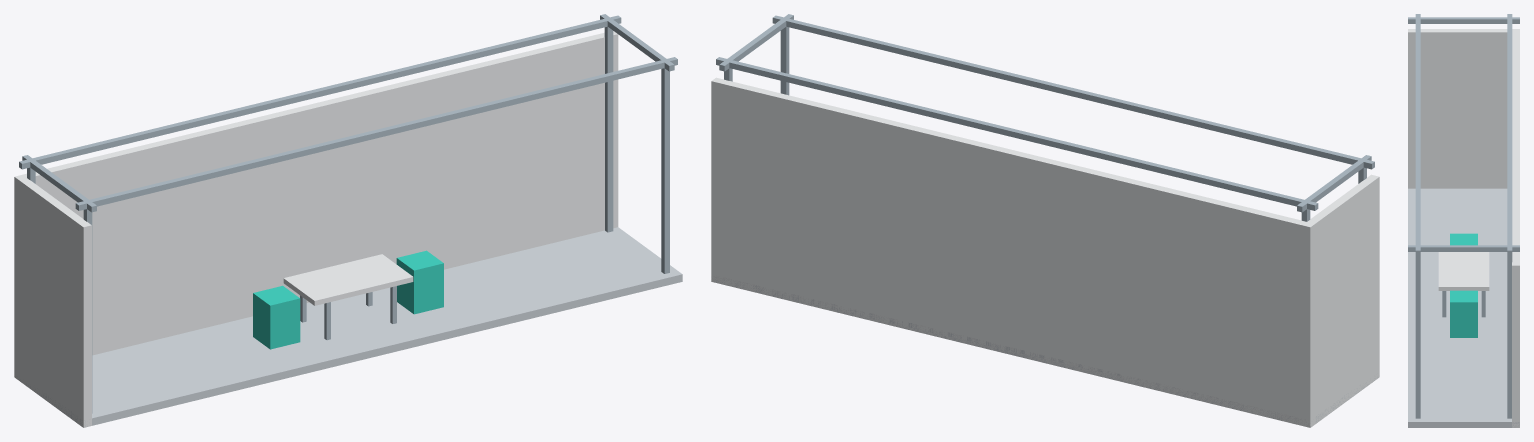
The picture shows the model from 3 angles, left to right: view 1: azimuth 30°, elevation 25°; view 2: azimuth 150°, elevation 25°; view 3: azimuth 270°, elevation 25°; orthographic projection. The views are drawn at different scales.
Parts seen in each view (by area): view 1: Exhibition Booth Concept; view 2: Exhibition Booth Concept; view 3: Exhibition Booth Concept.
Part boxes in pixels (x1=…): Exhibition Booth Concept: x1=14, y1=14, x2=682, y2=427; Exhibition Booth Concept: x1=711, y1=14, x2=1379, y2=427; Exhibition Booth Concept: x1=1408, y1=14, x2=1519, y2=427.
Size of the model in its own units: 10 by 3.49 by 2.
